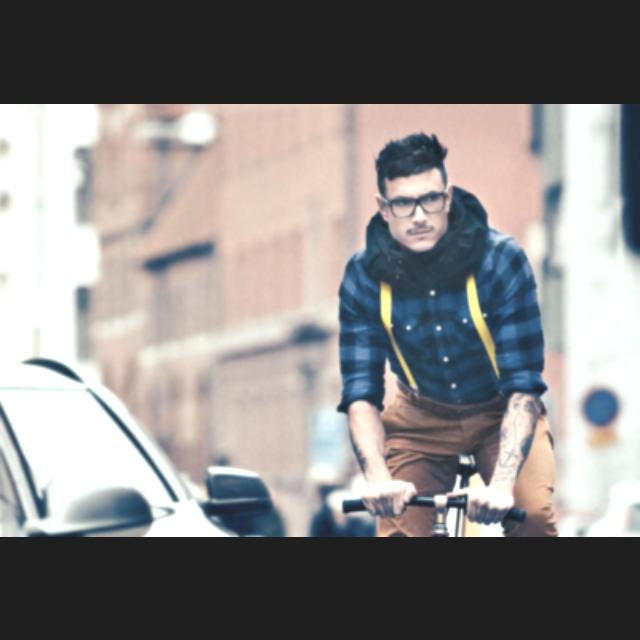Without Helmet: (368, 130, 462, 256)
